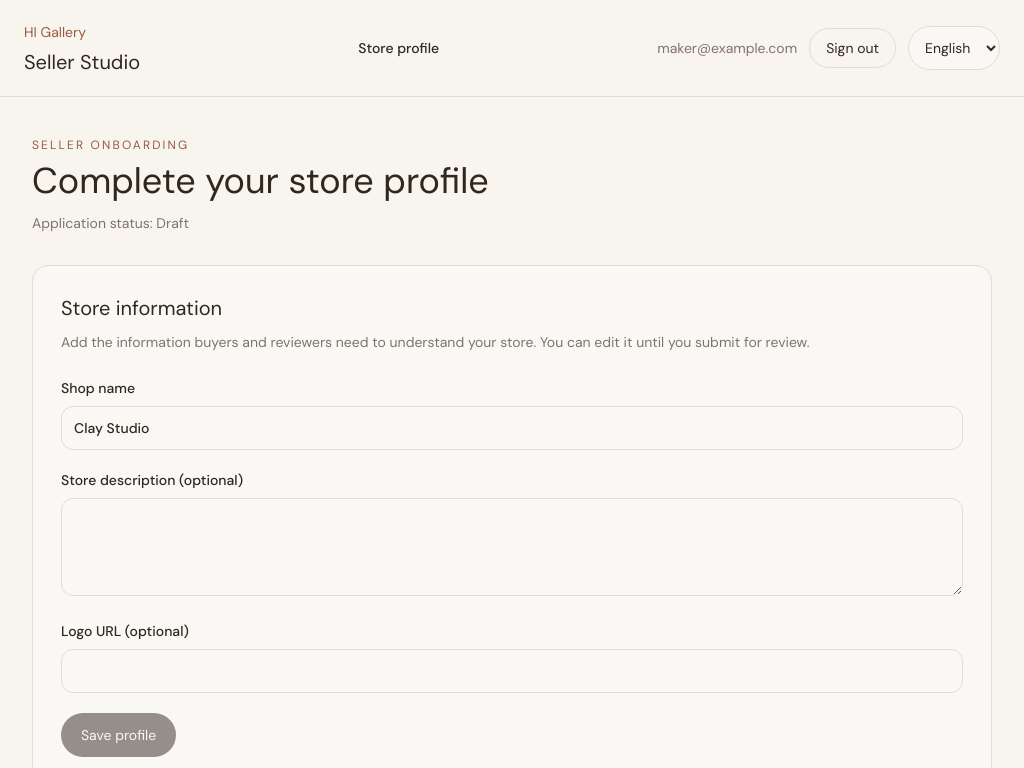
Test case: seller onboarding › shows server validation feedback for a failed profile save
Step 1. Replace the text in the field labelled "Shop name" with "Updated Studio" → (512, 428), box [61,406,963,450]
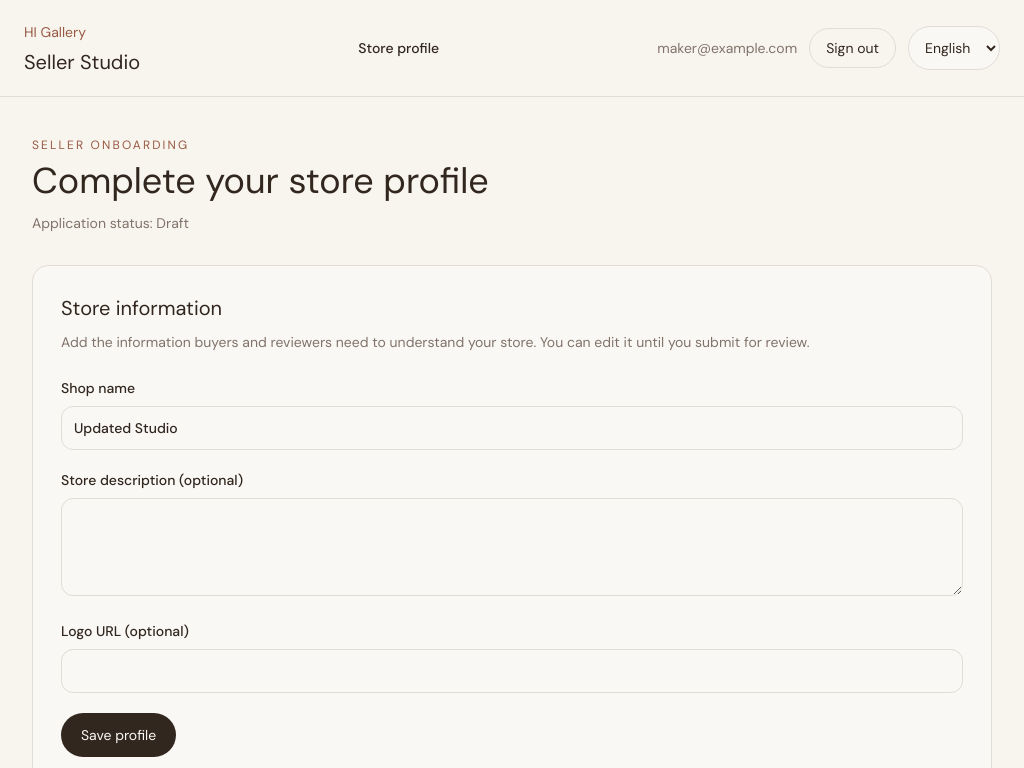
Step 2. Click the button "Save profile" → (119, 735), box [61,713,176,757]
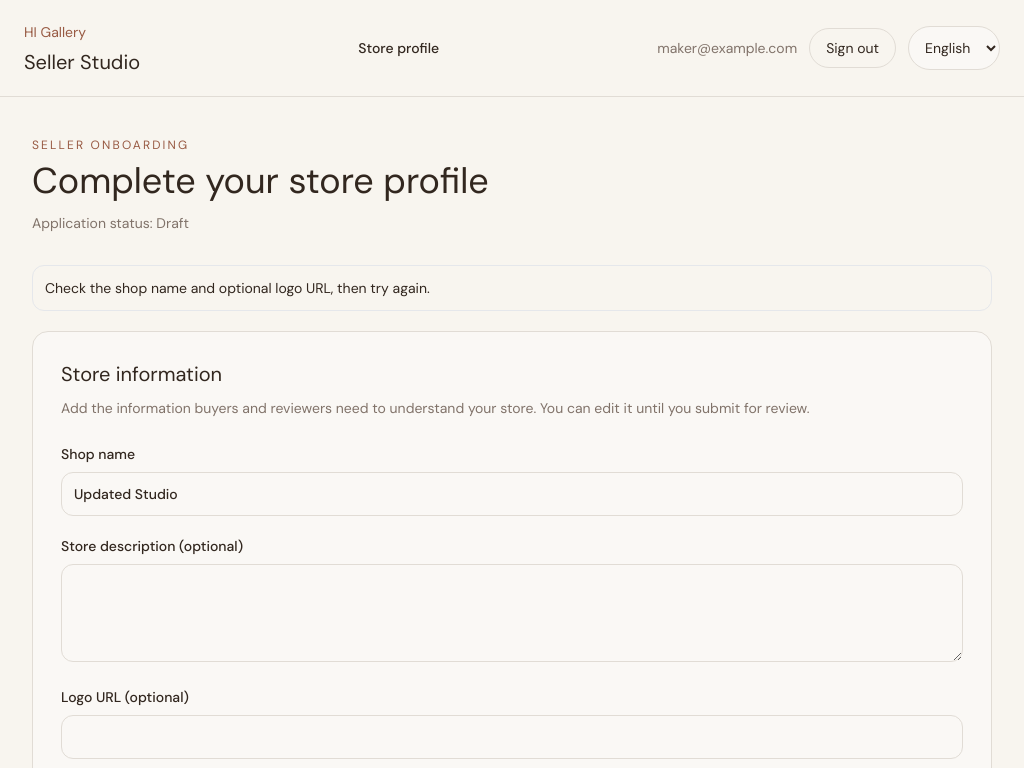
Now the message "Check the shop name and optional logo URL, then try again." is shown, box [32,265,992,311]
